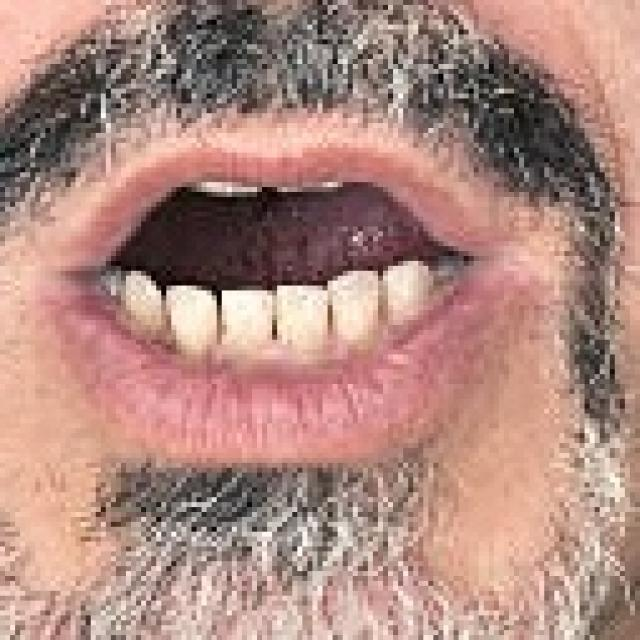open-mouth: (25, 113, 519, 463)
